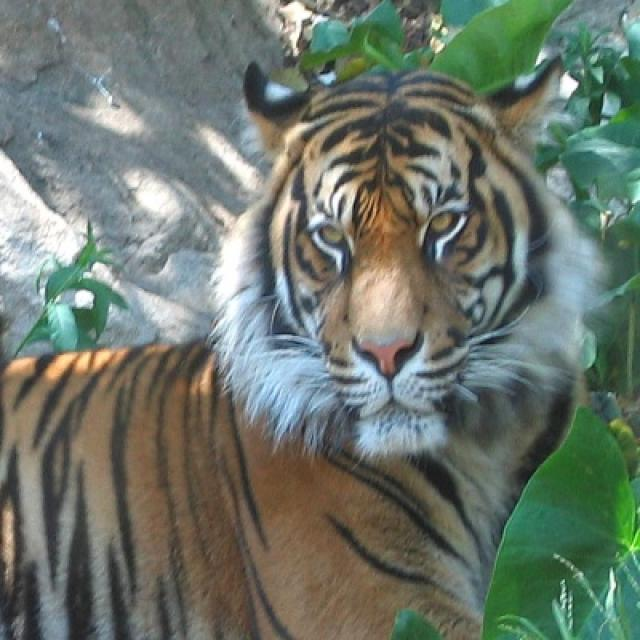Tiger: (0, 56, 603, 638)
